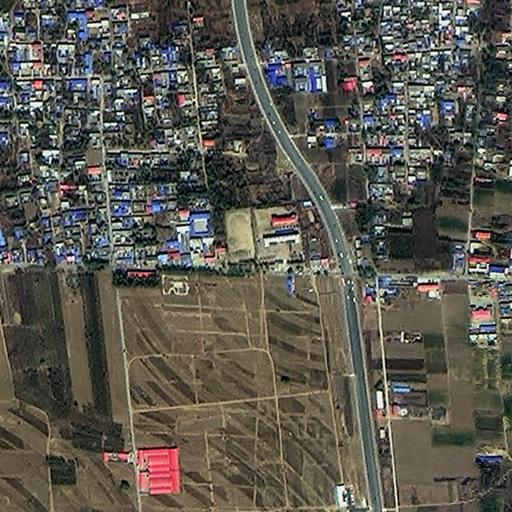school: (220, 203, 302, 267)
